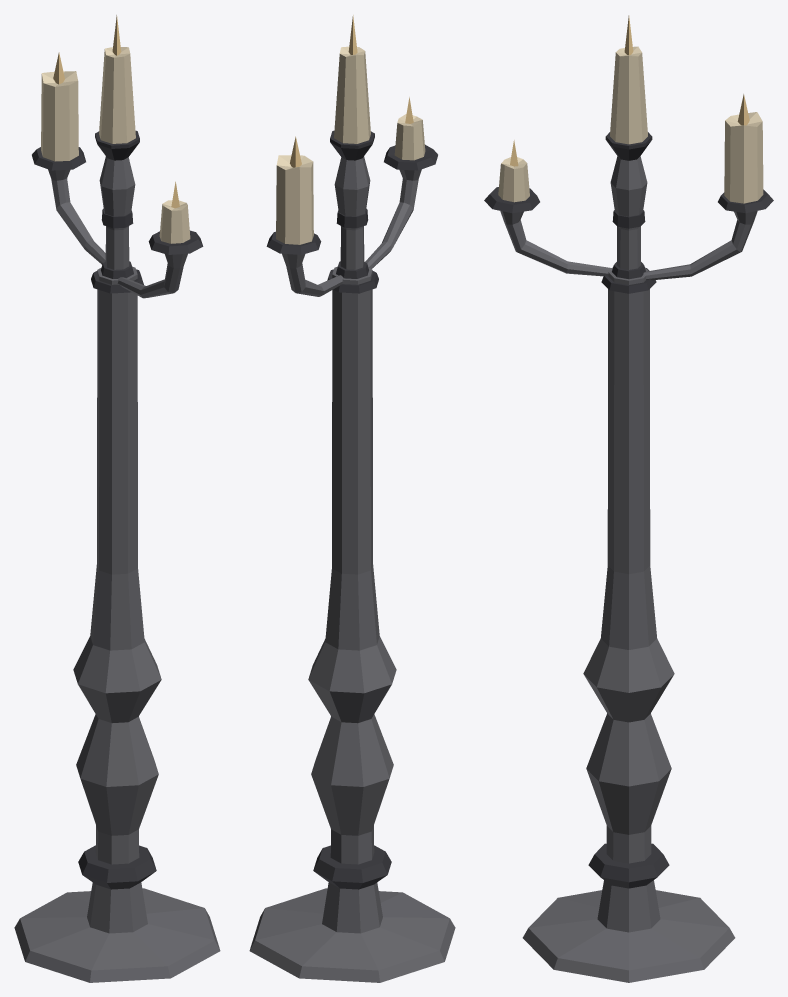
The model's file is Chandelier_2.fbx.
3 renders of one model, left to right at view 1: azimuth 30°, elevation 25°; view 2: azimuth 150°, elevation 25°; view 3: azimuth 270°, elevation 25°, orthographic.
Visible parts, largest first — view 1: polySurface2486; view 2: polySurface2486; view 3: polySurface2486.
Boxes of the visible parts, bbox=[...] form: polySurface2486: bbox=[14, 15, 220, 982]; polySurface2486: bbox=[249, 15, 455, 982]; polySurface2486: bbox=[484, 15, 773, 982].
Size of the model in its own units: 35.99 by 172 by 49.02.
